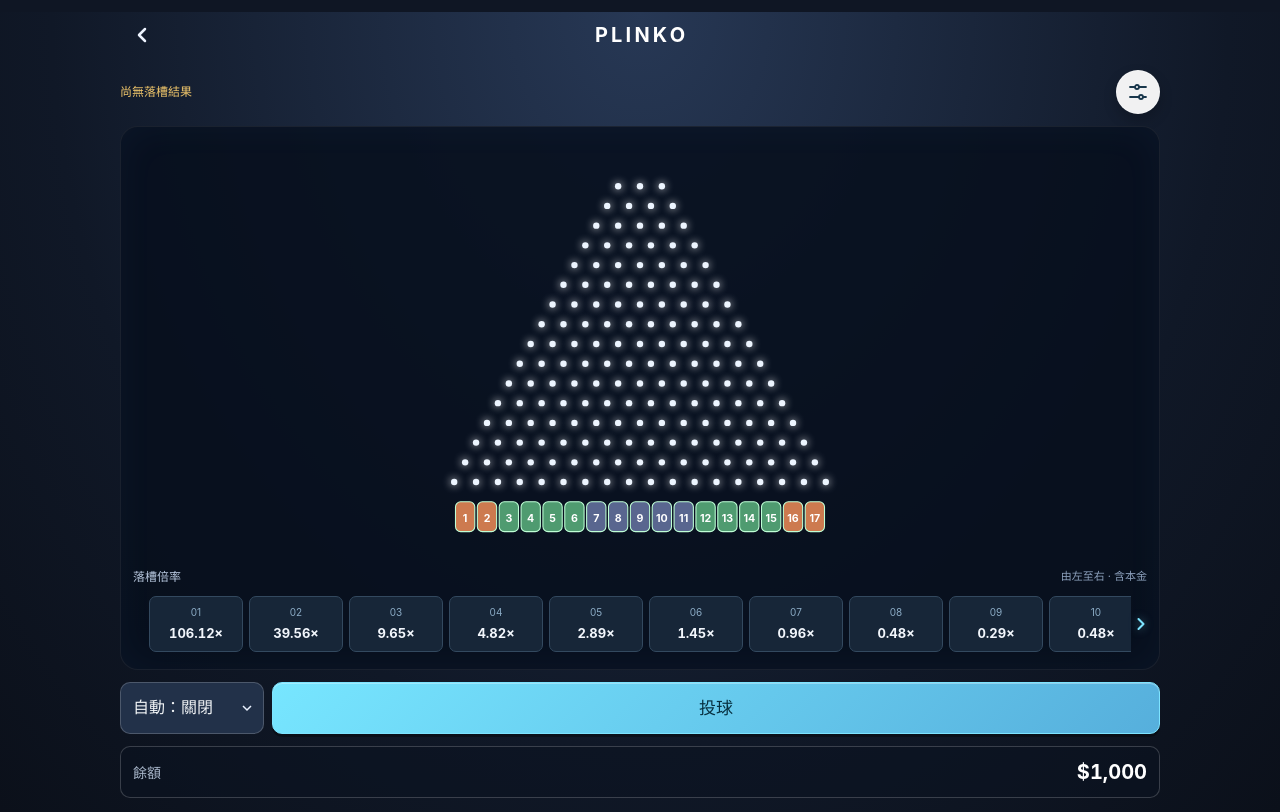
Test case: PlinkoView › can stop during an in-flight request without losing its result or sending the next ball
This screenshot has width=1280, height=812.
Step 1. Select "50 球" in the dropdown named "自動投球" → (192,708), box x1=120 y1=682 x2=264 y2=734
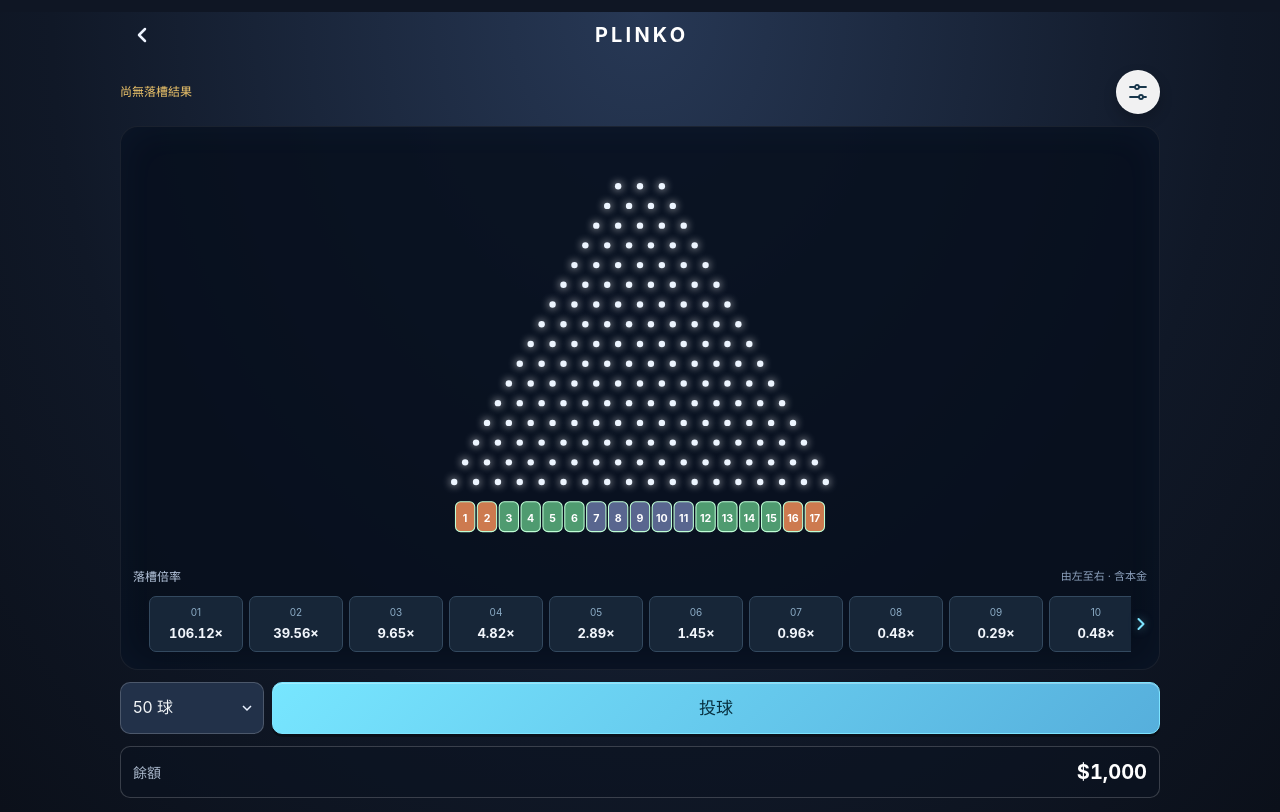
Step 2. Click the button "投球" → (716,708), box x1=272 y1=682 x2=1160 y2=734
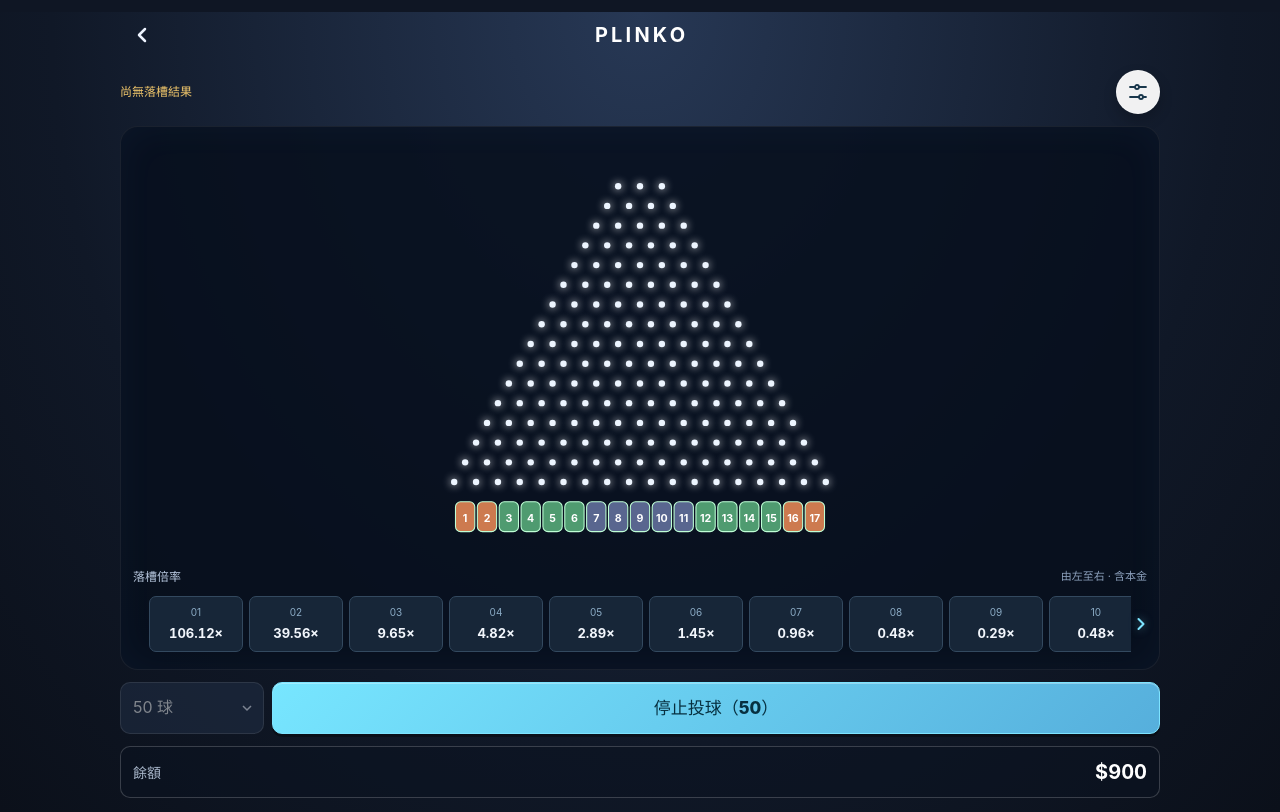
Step 3. Click the button "停止投球（50）" → (716,708), box x1=272 y1=682 x2=1160 y2=734
Wait 5000 ms
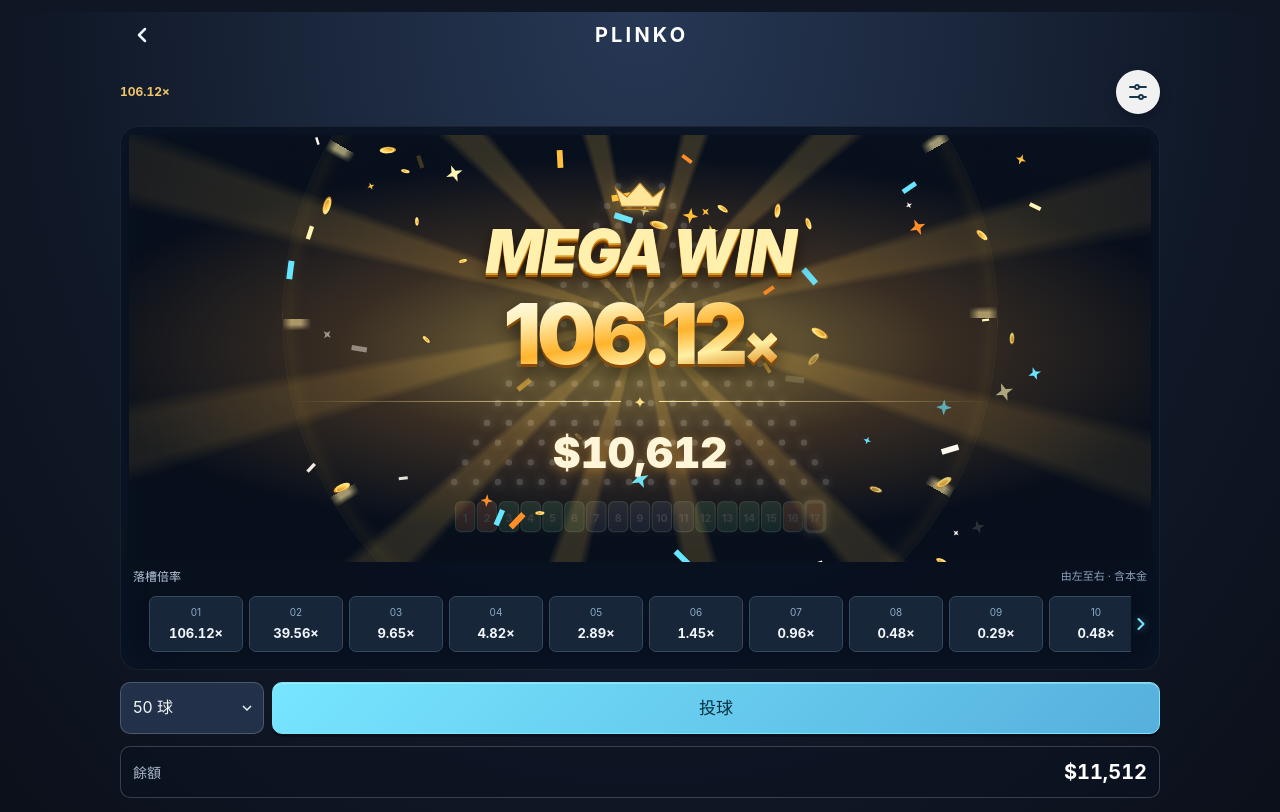
Check: the button "投球" is shown, box x1=272 y1=682 x2=1160 y2=734
